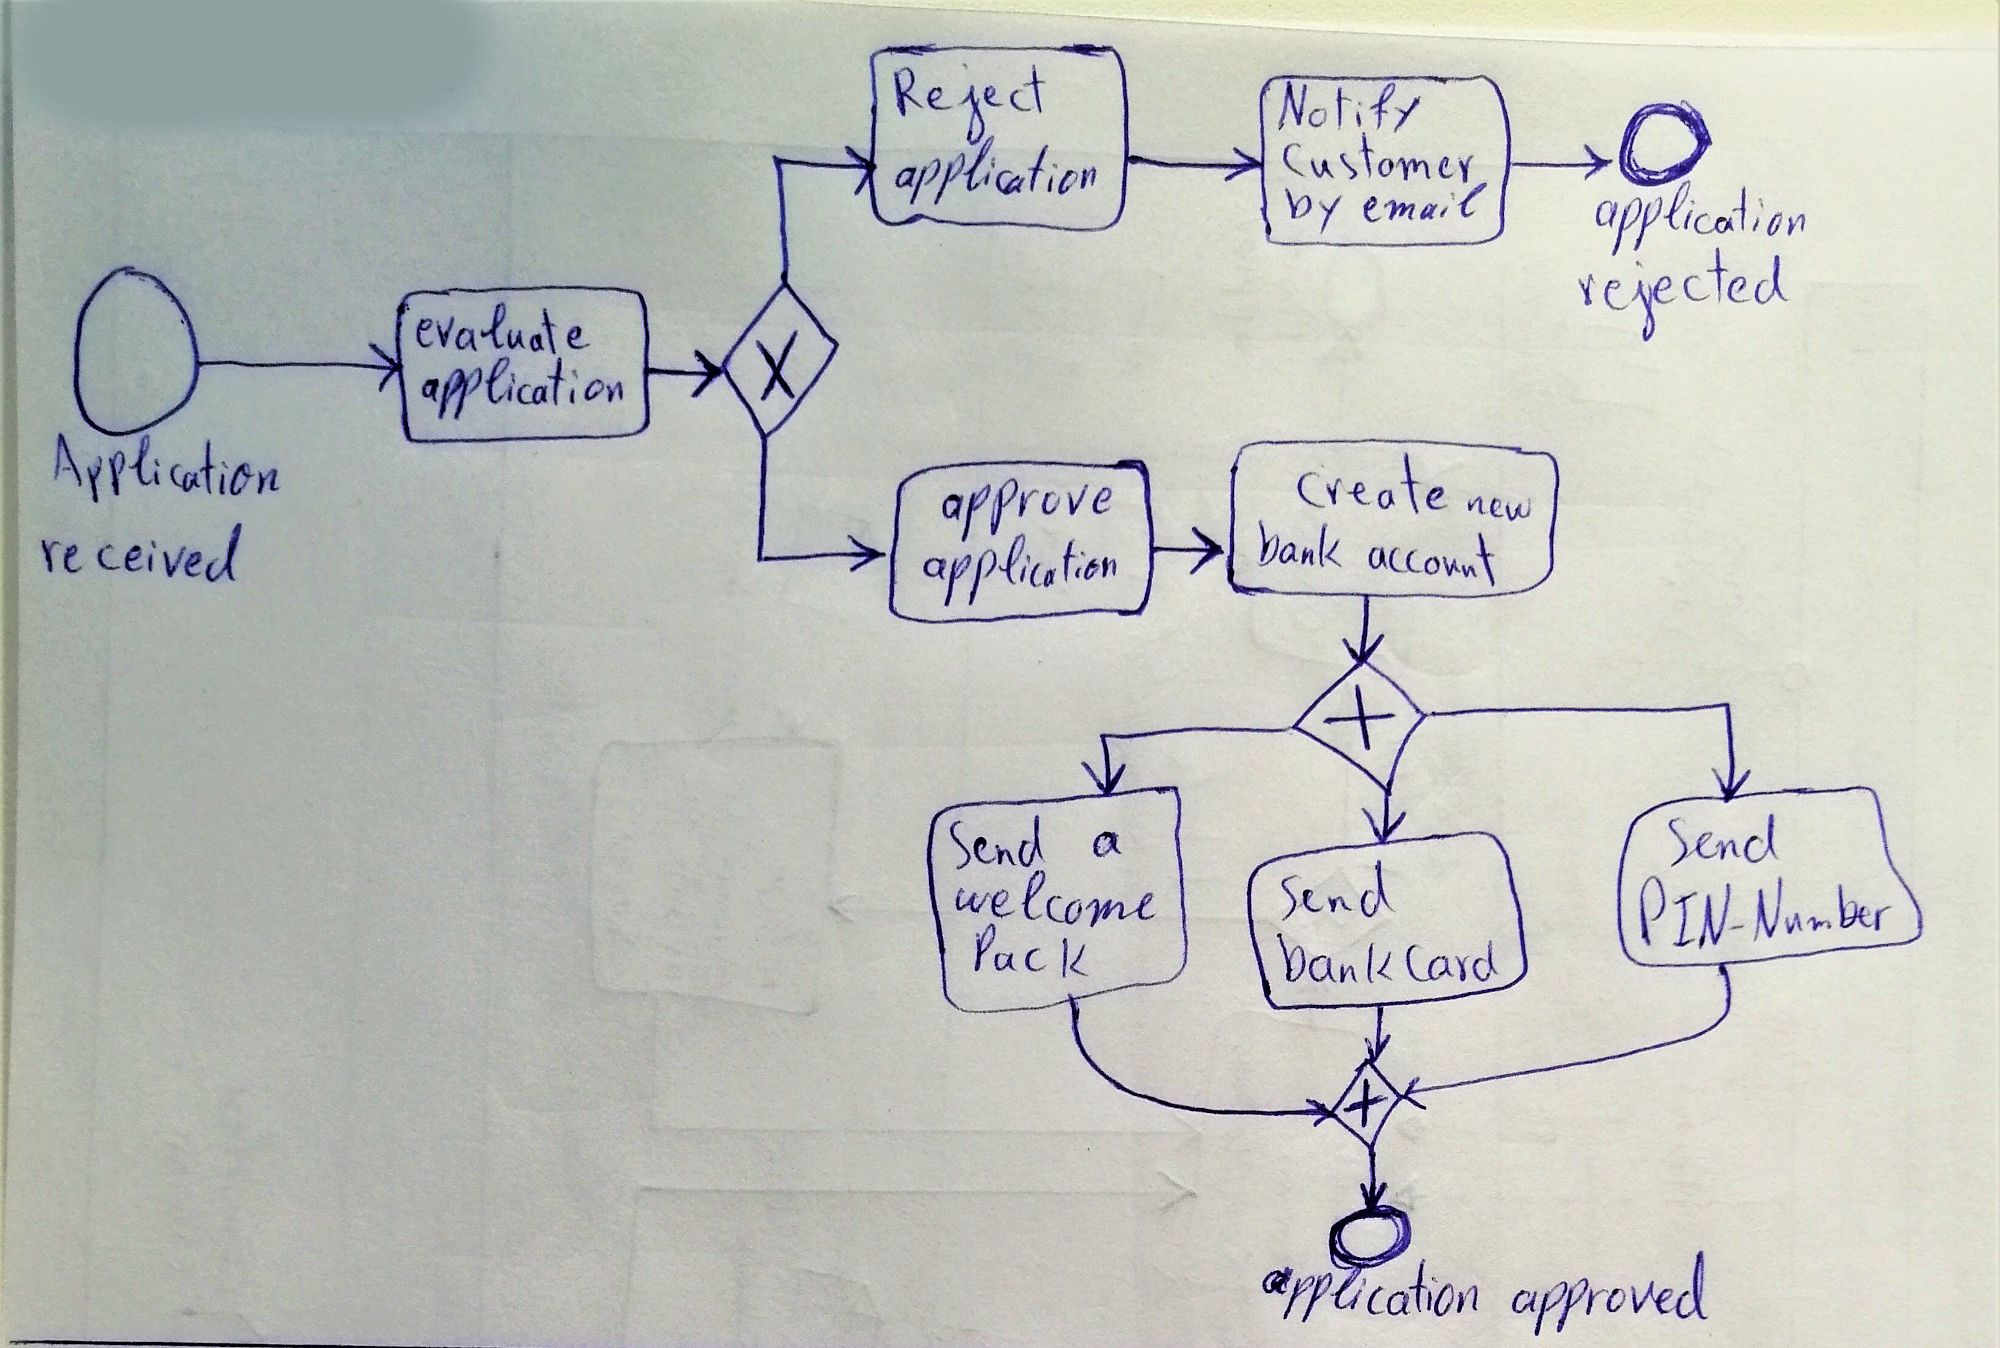Application: (41, 432, 292, 510)
Notify: (1278, 75, 1420, 129)
Number: (1749, 879, 1892, 943)
PIN-: (1636, 876, 1746, 955)
Pack: (968, 921, 1101, 978)
Reject: (890, 57, 1051, 144)
Send: (1662, 809, 1786, 874), (1271, 876, 1395, 931), (947, 814, 1056, 871)
a: (1086, 818, 1125, 867)
account: (1364, 531, 1501, 590)
application: (880, 132, 1105, 211), (1586, 184, 1817, 254), (408, 360, 632, 427), (1259, 1264, 1486, 1327), (920, 536, 1119, 602)
approve: (935, 472, 1120, 539)
approved: (1510, 1249, 1710, 1337)
bank: (1272, 927, 1395, 993), (1250, 518, 1352, 575)
by: (1278, 187, 1344, 233)
card: (1397, 943, 1501, 991)
create: (1289, 448, 1456, 522)
customer: (1278, 132, 1480, 187)
email: (1358, 184, 1492, 232)
evaluate: (408, 302, 592, 360)
new: (1462, 484, 1535, 533)
received: (30, 521, 253, 590)
rejected: (1574, 247, 1794, 343)
welcome: (950, 864, 1162, 928)
